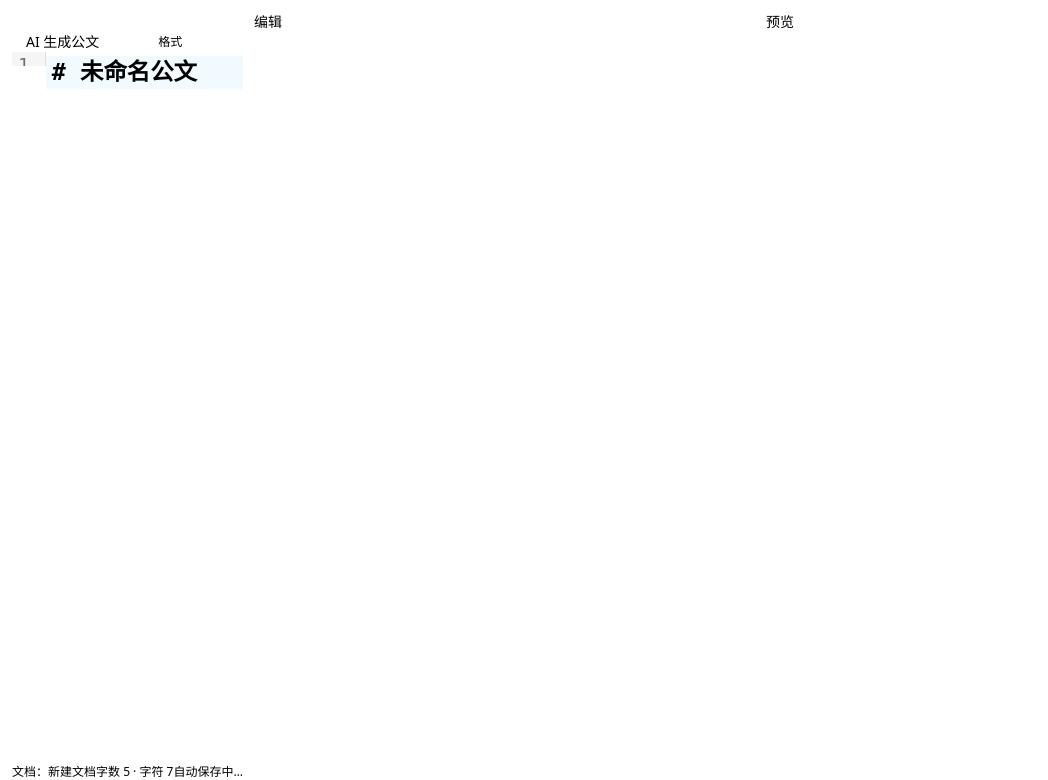
it: App 移动端响应式布局 › 移动端切到预览 tab：隐藏编辑器，显示预览面板
Click the button "预览" at (780, 22), box [524, 12, 1036, 32]
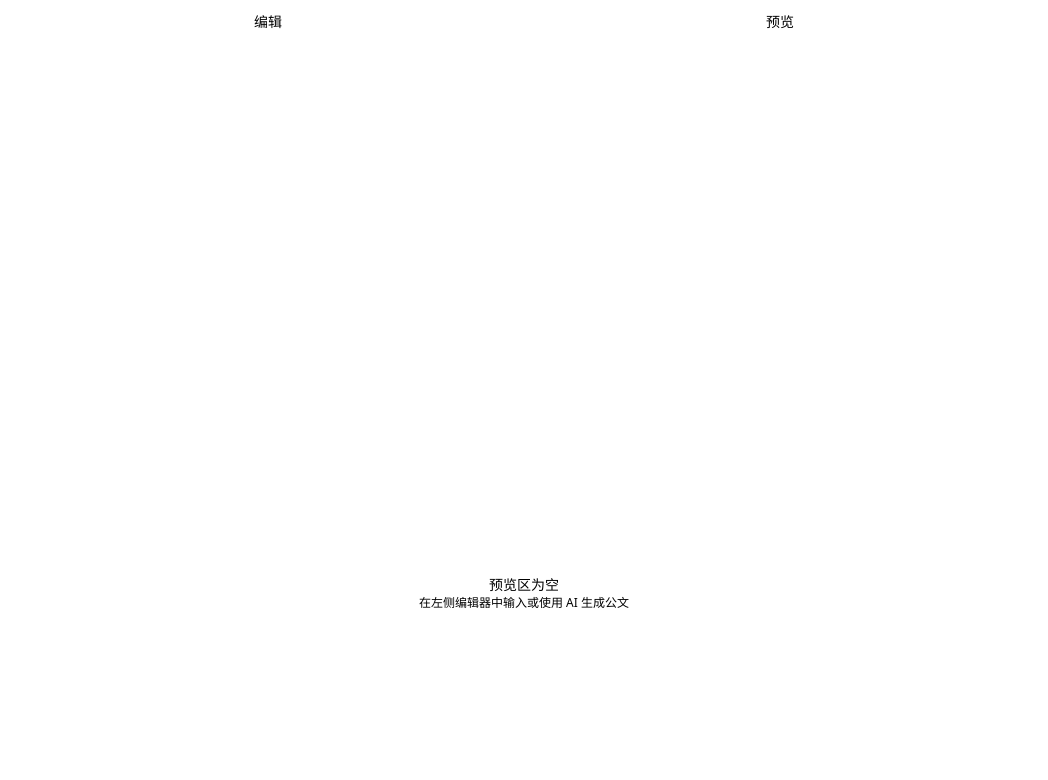
Now the element with class "editor-panel" is gone
Now the element showing "预览区为空 在左侧编辑器中输入或使用 AI 生成公文" is shown, box [419, 575, 629, 611]
